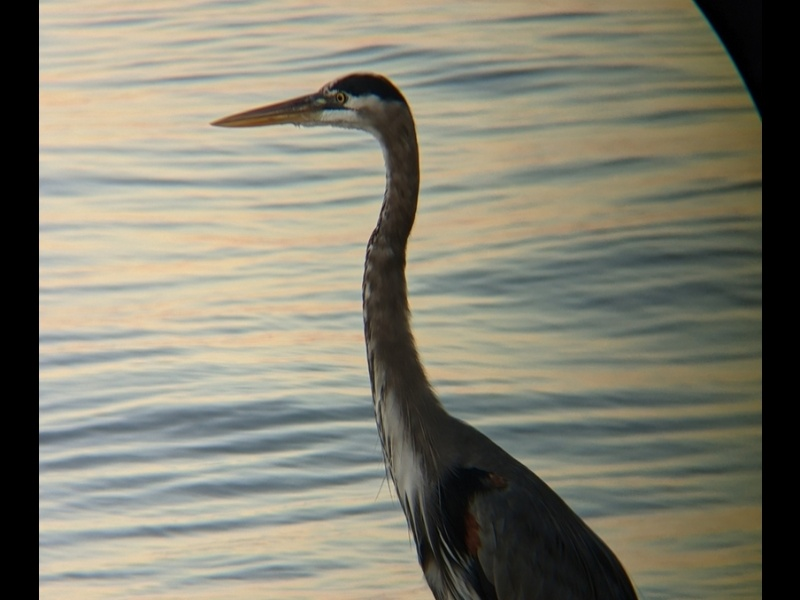heron: (207, 73, 645, 597)
